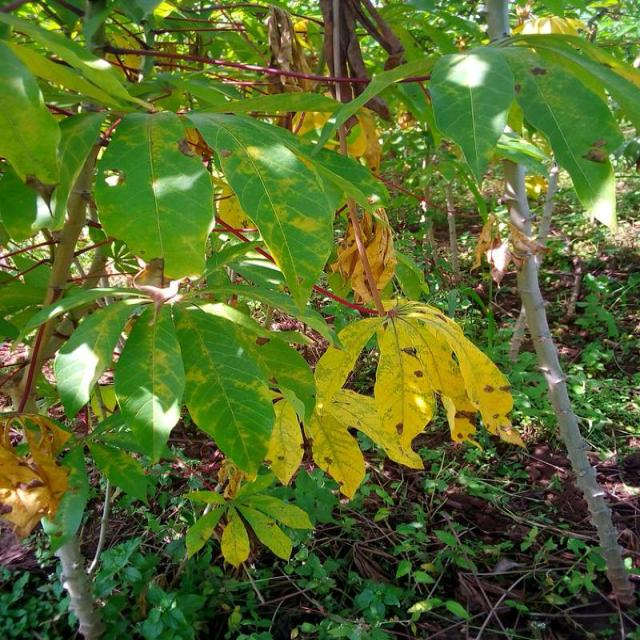cassava leaf: (181, 109, 391, 314), (318, 296, 522, 470), (94, 108, 217, 282), (174, 301, 276, 480), (429, 46, 516, 185), (115, 300, 187, 463)
